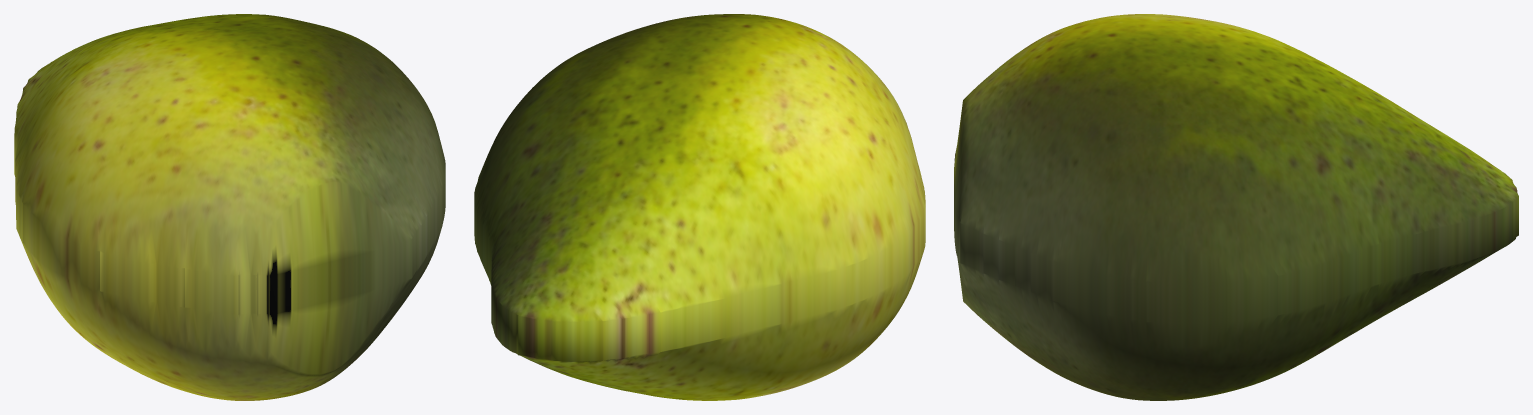
File: green pear_4_0.obj
The picture shows the model from 3 angles, left to right: view 1: azimuth 30°, elevation 25°; view 2: azimuth 150°, elevation 25°; view 3: azimuth 270°, elevation 25°; orthographic projection.
Visible parts, largest first — view 1: Grid; view 2: Grid; view 3: Grid.
Part boxes in pixels (x1,y1,x2,y2): Grid: (14, 14, 445, 400); Grid: (474, 14, 925, 400); Grid: (954, 14, 1518, 400).
Size of the model in its own units: 1.45 by 1.2 by 1.83.
Materials: 1 (1 with a texture image).
